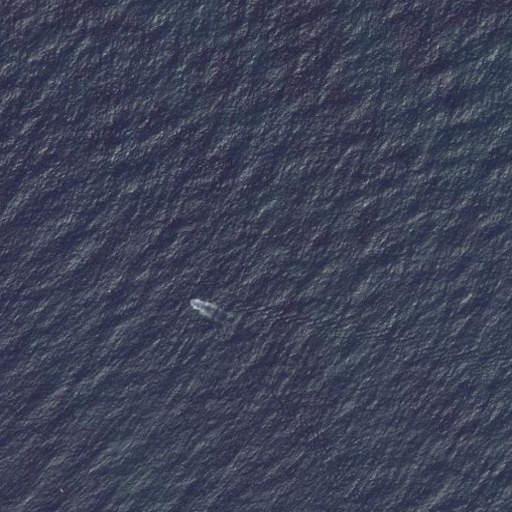ship: (188, 297, 205, 311)
